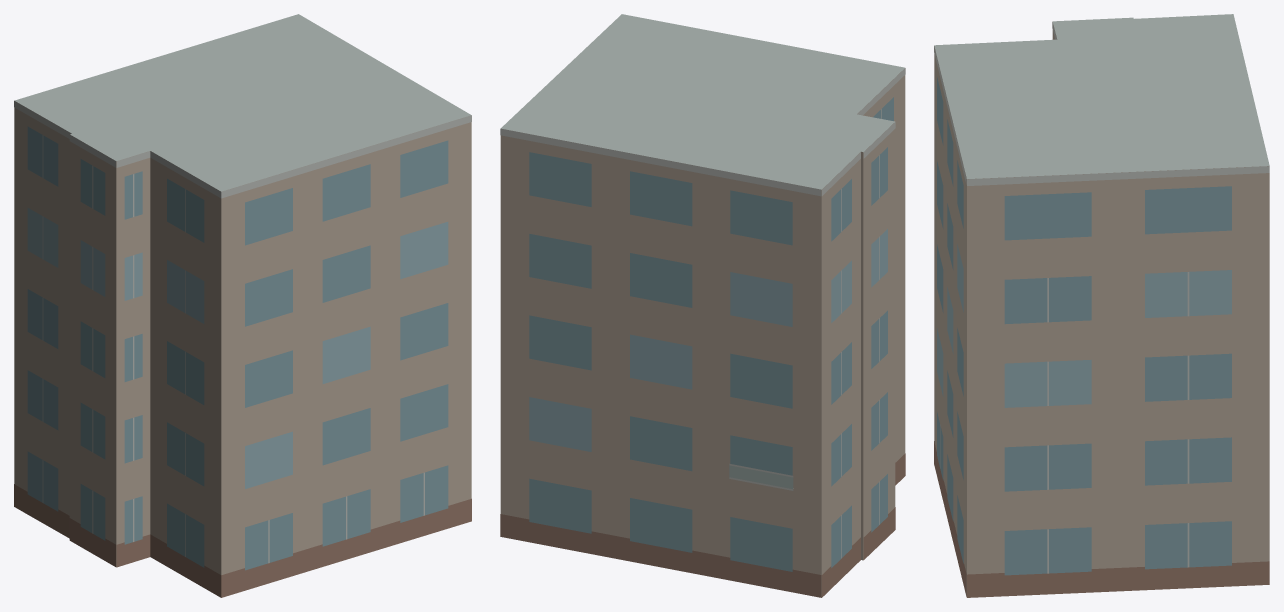
Rendered from survey-upis-32654933.glb.
3 renders of one model, left to right at view 1: azimuth 30°, elevation 25°; view 2: azimuth 150°, elevation 25°; view 3: azimuth 270°, elevation 25°, orthographic. The views are drawn at different scales.
Visible parts, largest first — view 1: survey-upis-32654933.tmp; view 2: survey-upis-32654933.tmp; view 3: survey-upis-32654933.tmp.
Part boxes in pixels (x1=…): survey-upis-32654933.tmp: x1=14, y1=14, x2=471, y2=597; survey-upis-32654933.tmp: x1=500, y1=14, x2=905, y2=597; survey-upis-32654933.tmp: x1=934, y1=14, x2=1269, y2=597.
Size of the model in its own units: 12.36 by 14.6 by 10.62.
